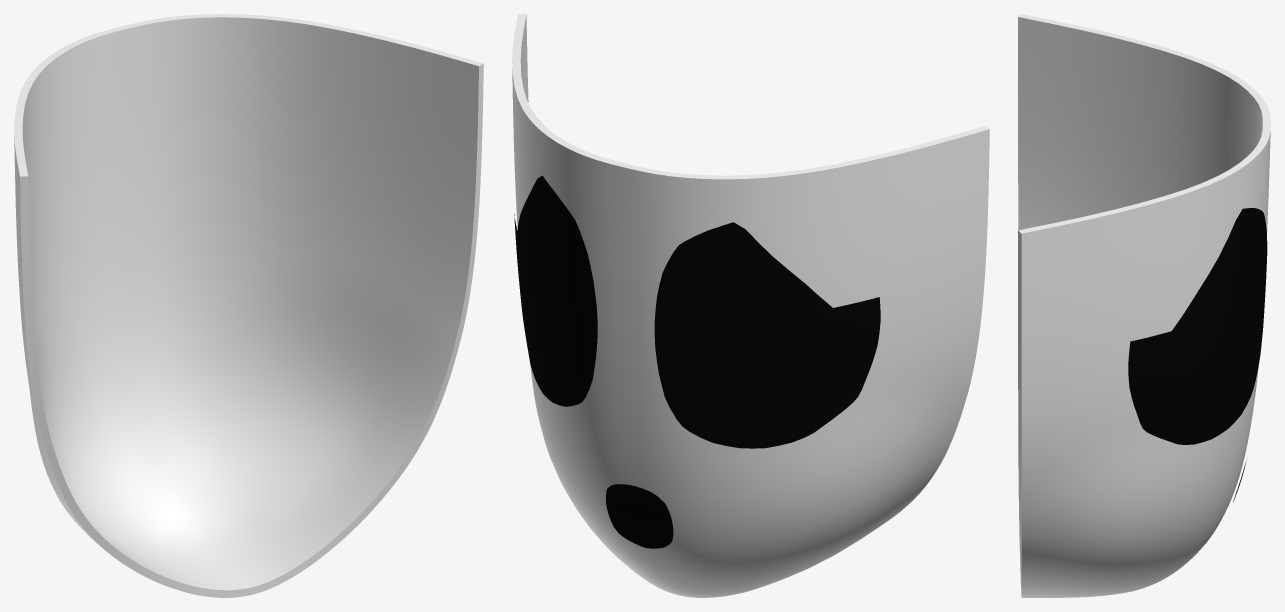
File: gangle.glb
3 renders of one model, left to right at view 1: azimuth 30°, elevation 25°; view 2: azimuth 150°, elevation 25°; view 3: azimuth 270°, elevation 25°, orthographic. The views are drawn at different scales.
Parts seen in each view (by area): view 1: gangle_body; view 2: gangle_body; view 3: gangle_body.
Boxes of the visible parts, bbox=[...] form: gangle_body: bbox=[14, 14, 483, 597]; gangle_body: bbox=[512, 14, 989, 597]; gangle_body: bbox=[1018, 14, 1270, 597].
Size of the model in its own units: 1.22 by 1.2 by 0.5945.
2 materials, 2 textured.
